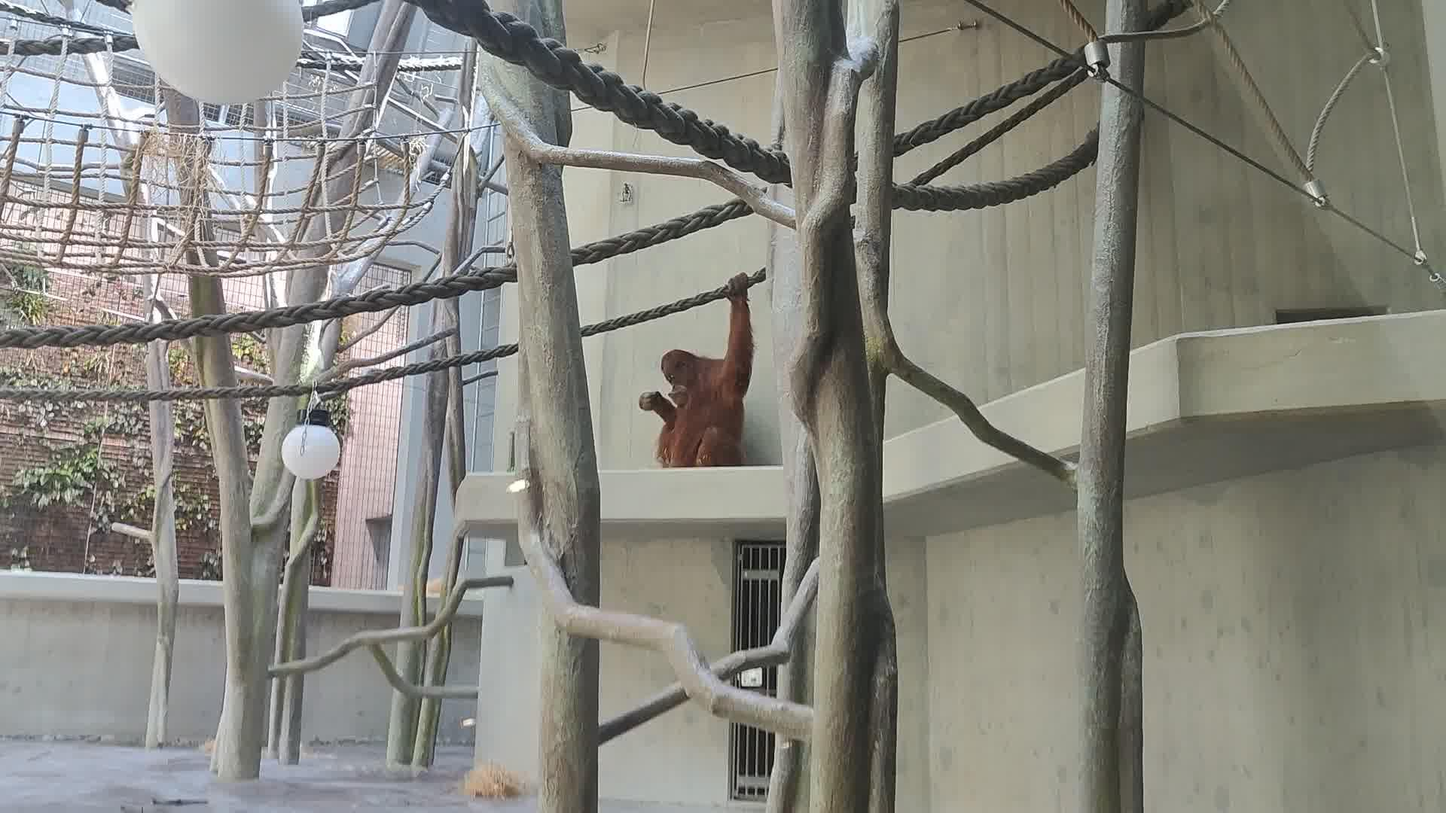boar: (639, 271, 755, 468)
